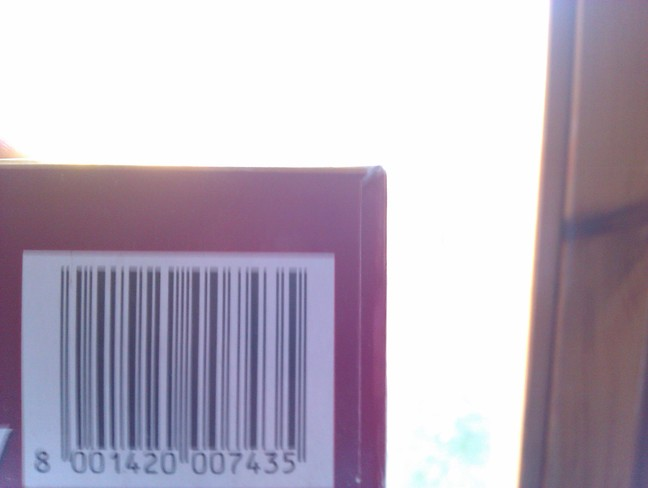barcode: (20, 249, 315, 467)
